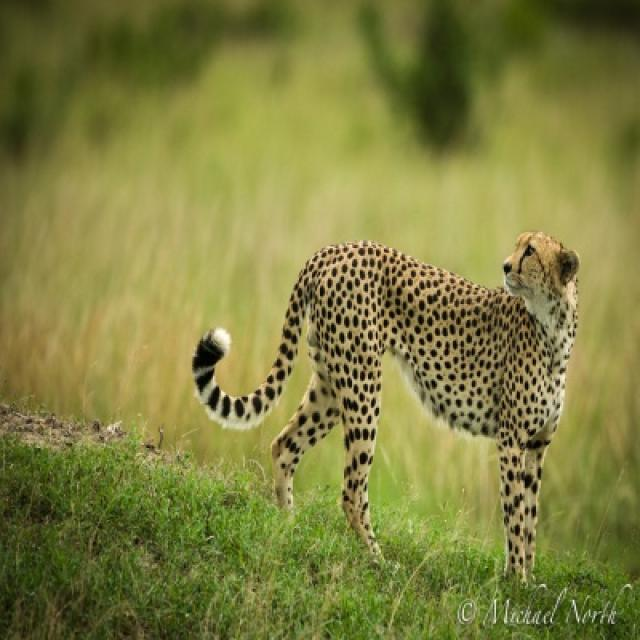Cheetah: (192, 232, 578, 578)
